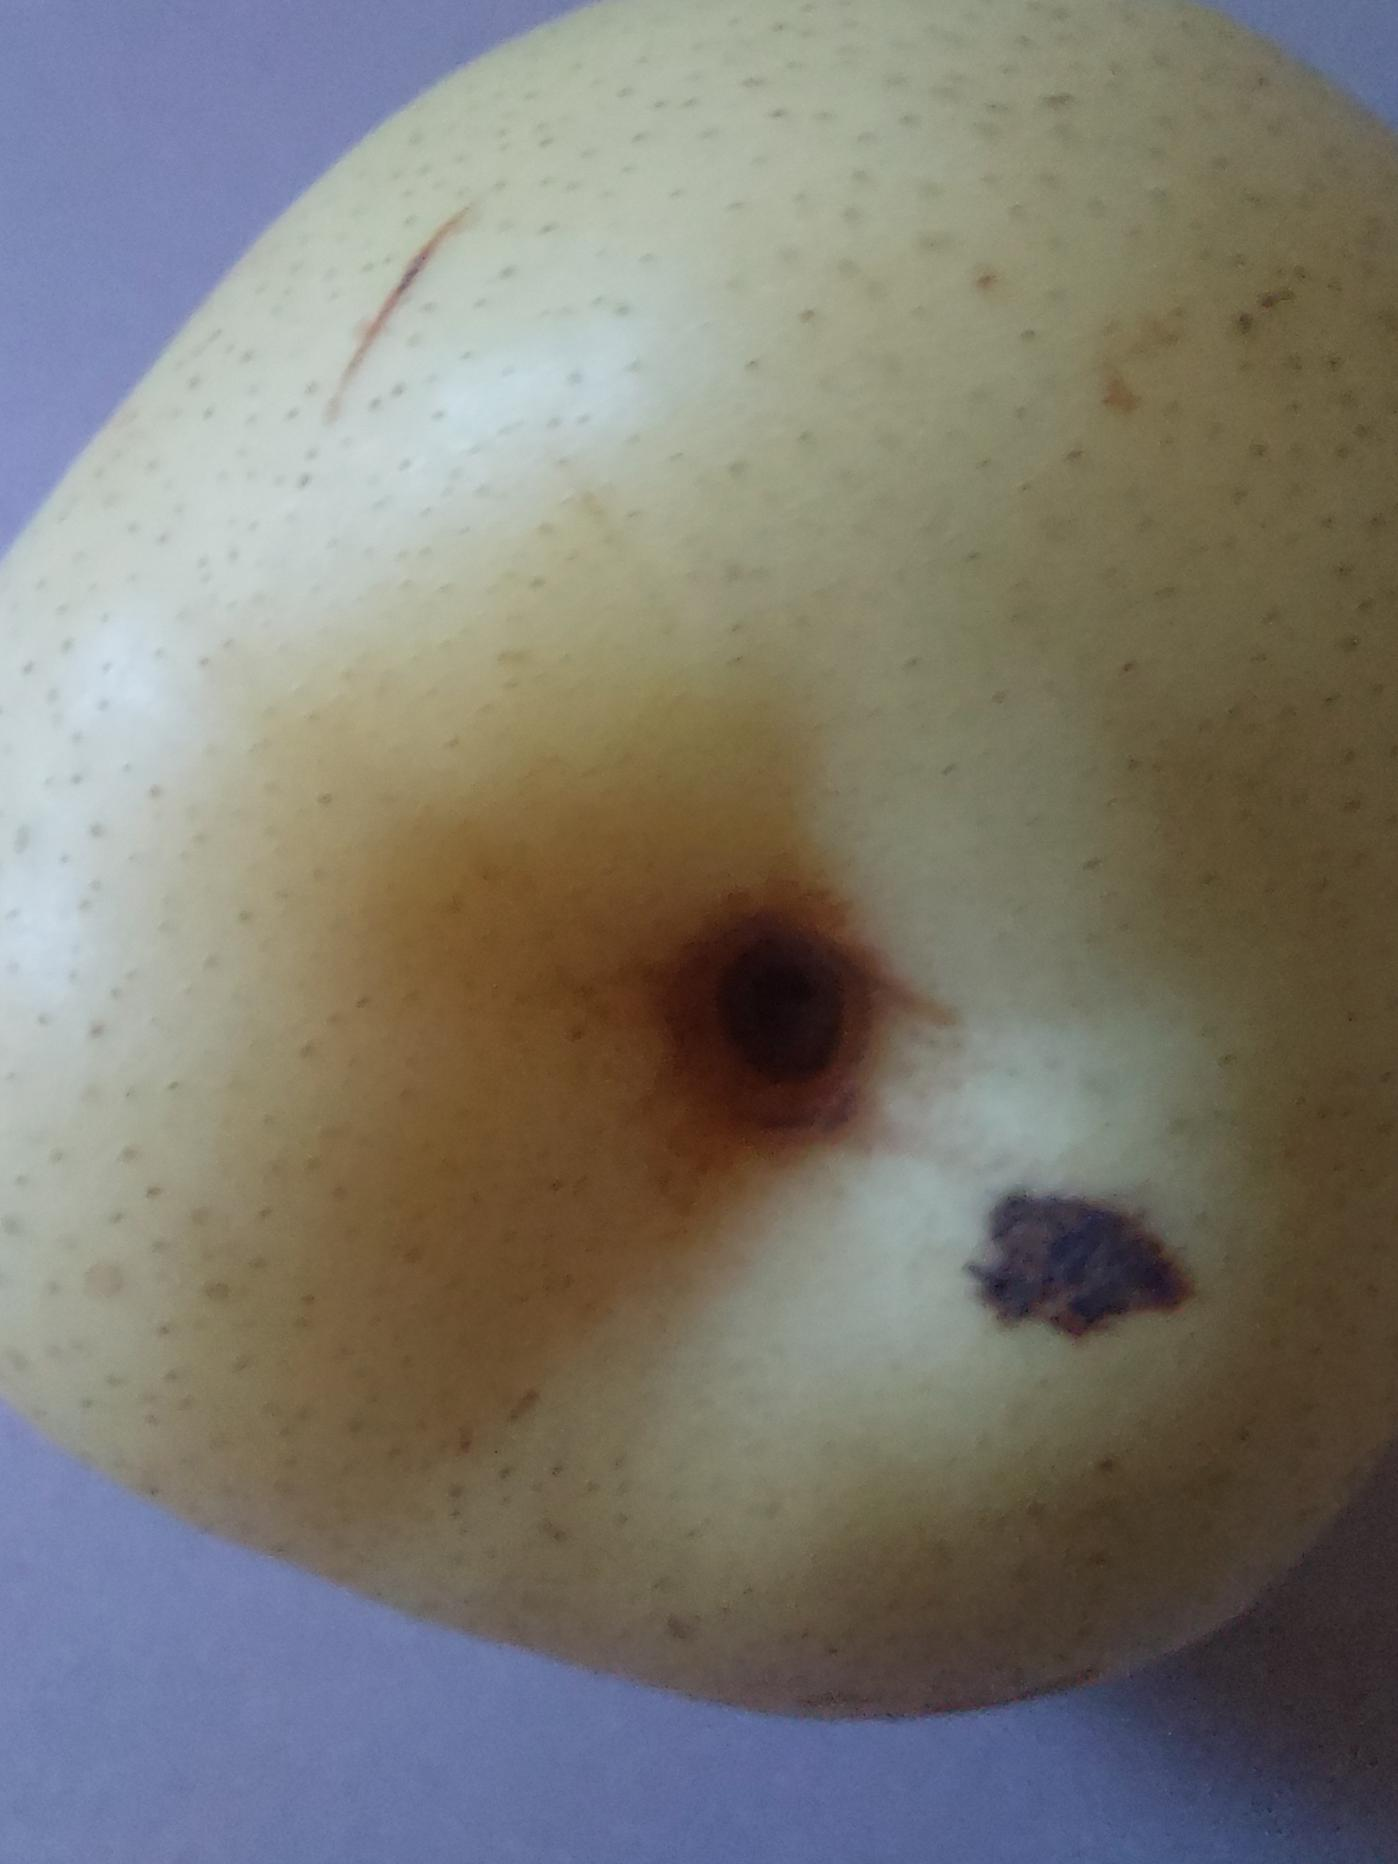Good Pear: (0, 0, 1398, 1739)
